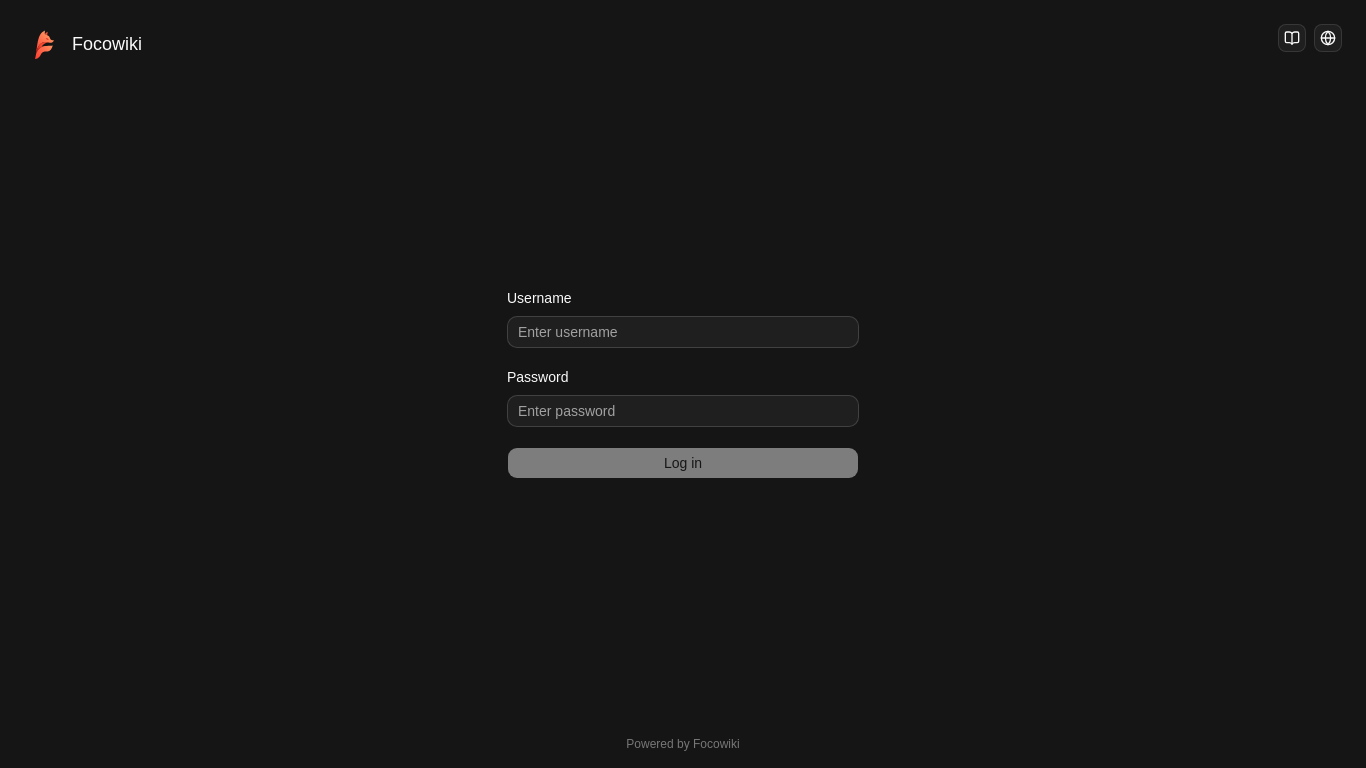
it: Admin knowledge base home › opens the knowledge-base edit dialog from the card menu
In the field labelled "Username": (683, 332) [507, 316, 859, 348], type "admin"
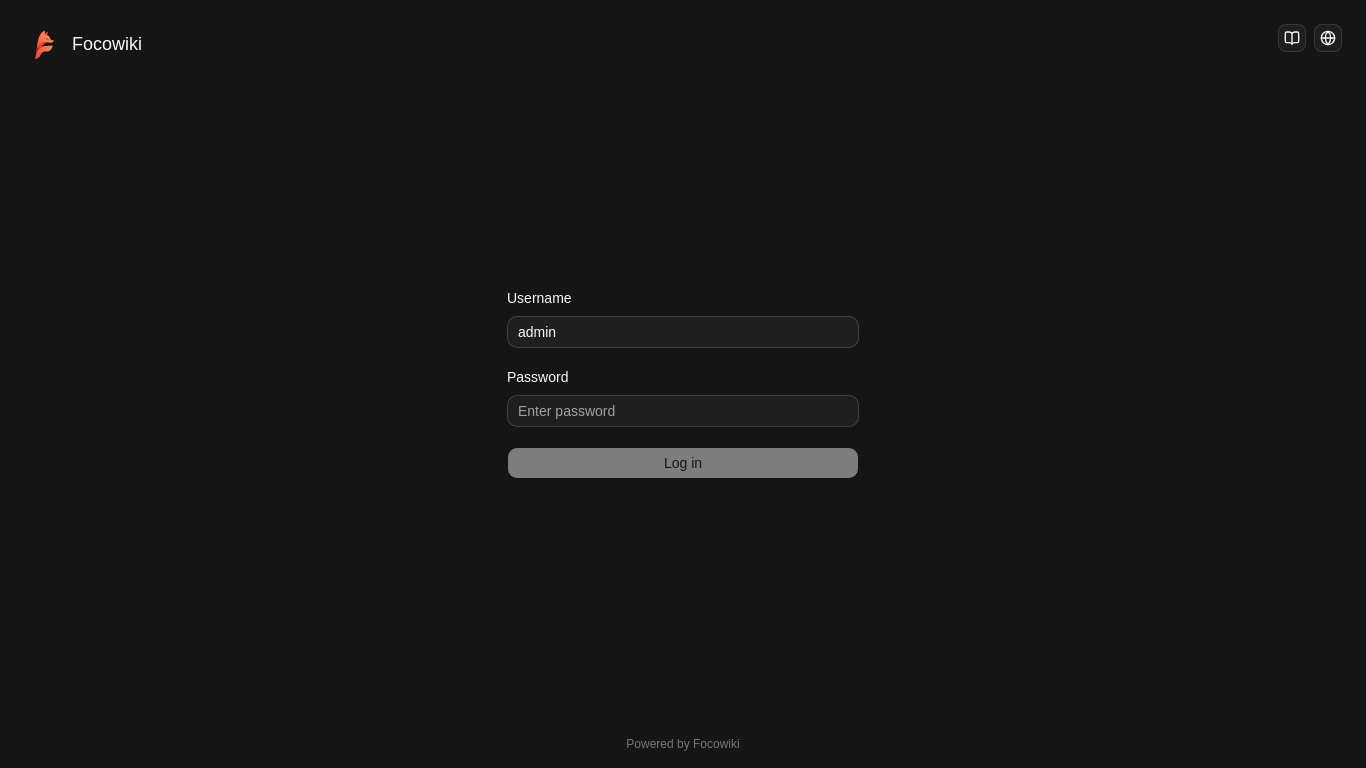
In the password field labelled "Password": (683, 411) [507, 395, 859, 427], type "admin-secret"
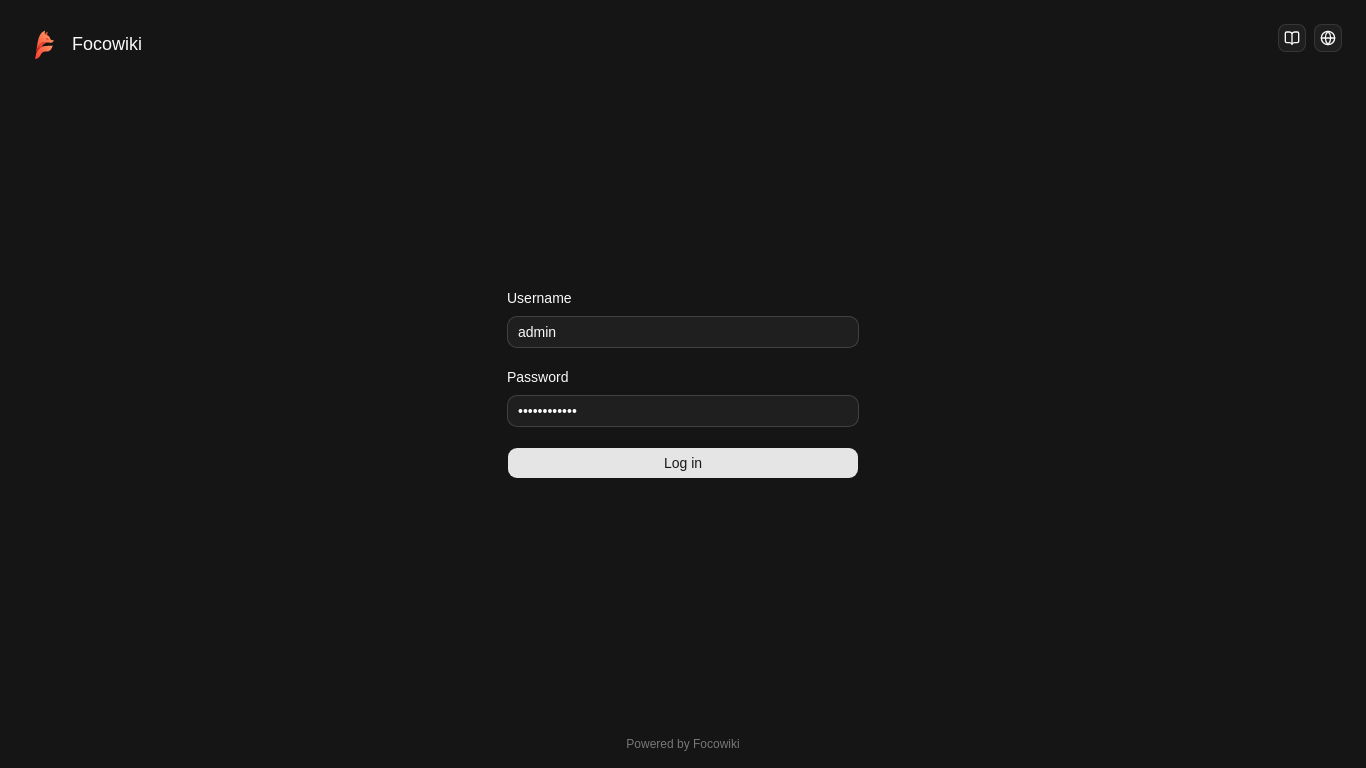
Click the button "Log in": (683, 463) [507, 447, 859, 479]
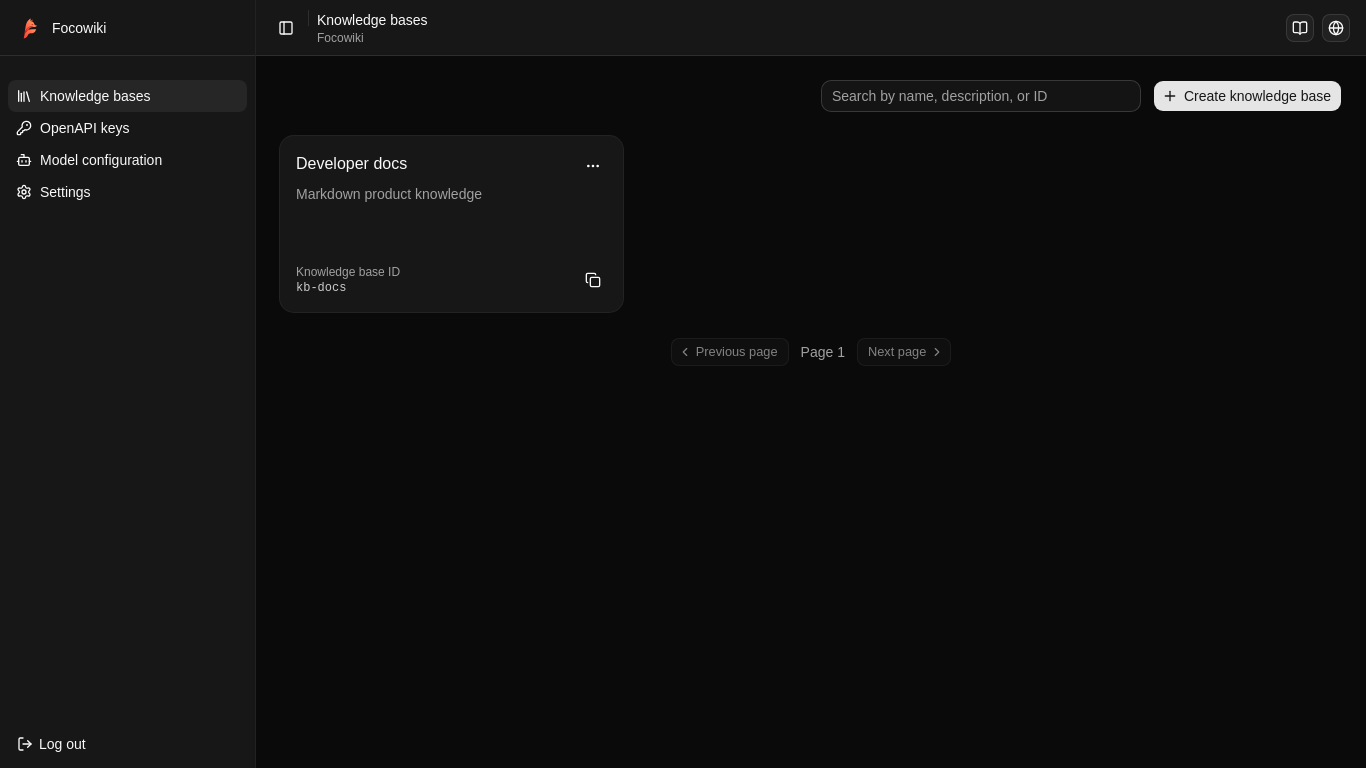
Press the mouse on the button named "Knowledge base actions for Developer docs": (593, 166) [579, 152, 607, 180]
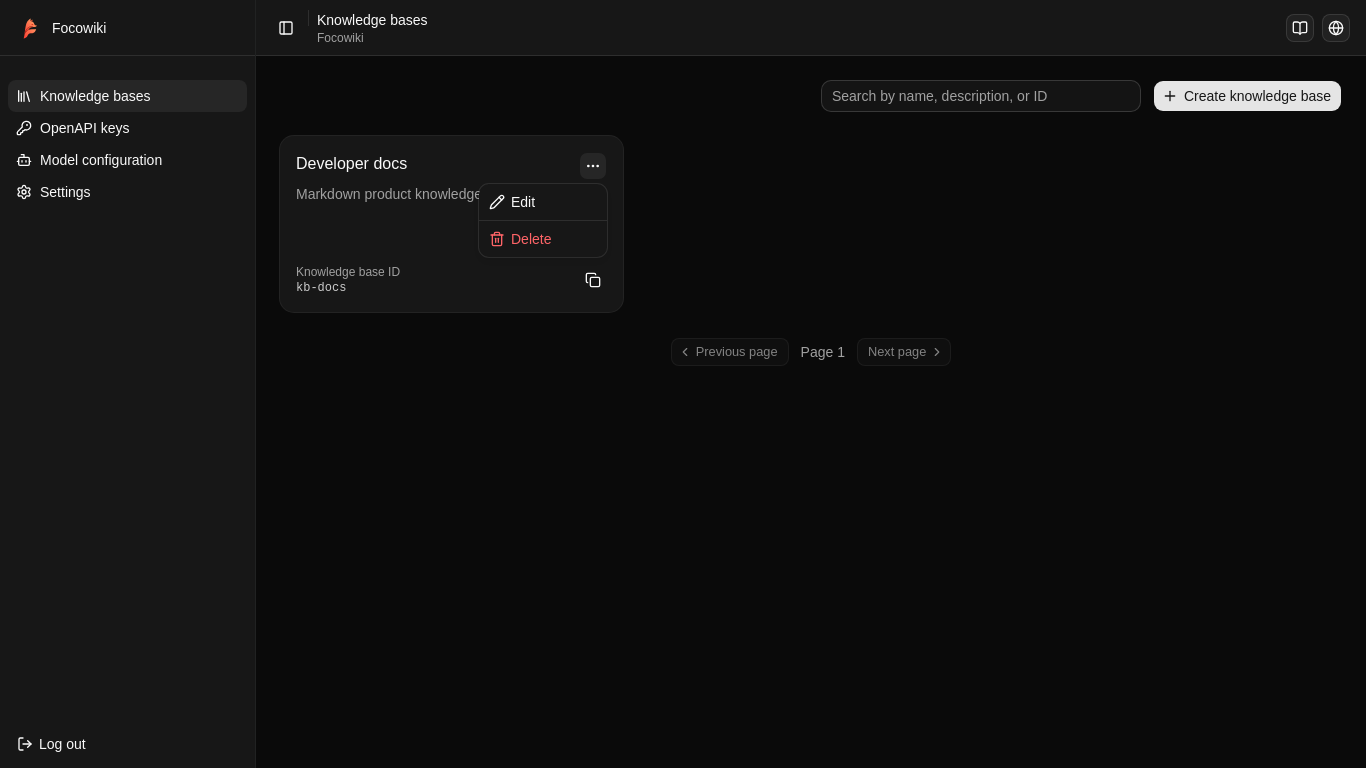
Click the menu item "Edit": (512, 202) [489, 194, 535, 210]
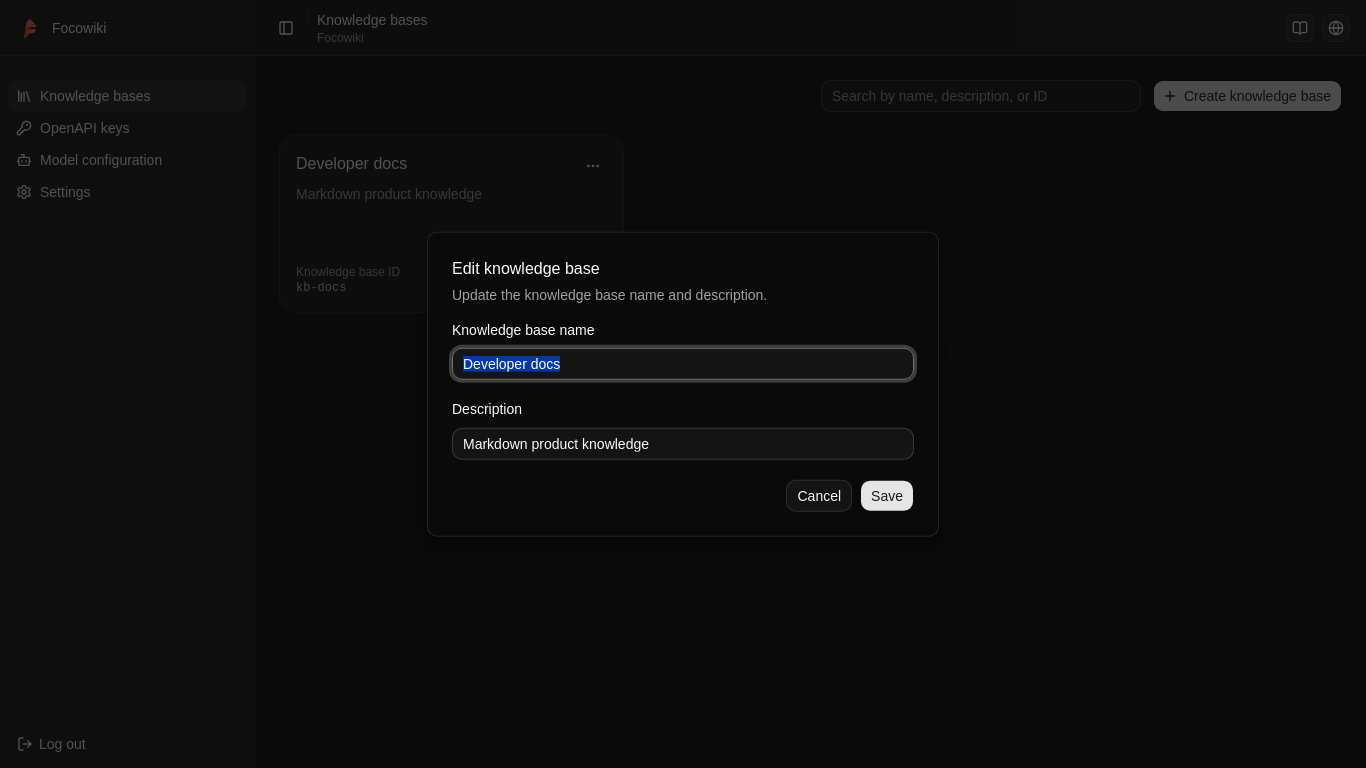
expect the dialog "Edit knowledge base" is shown: met, box [427, 232, 939, 536]
expect the field labelled "Knowledge base name" holds "Developer docs": met, box [452, 348, 914, 380]
expect the field labelled "Description" holds "Markdown product knowledge": met, box [452, 427, 914, 459]
